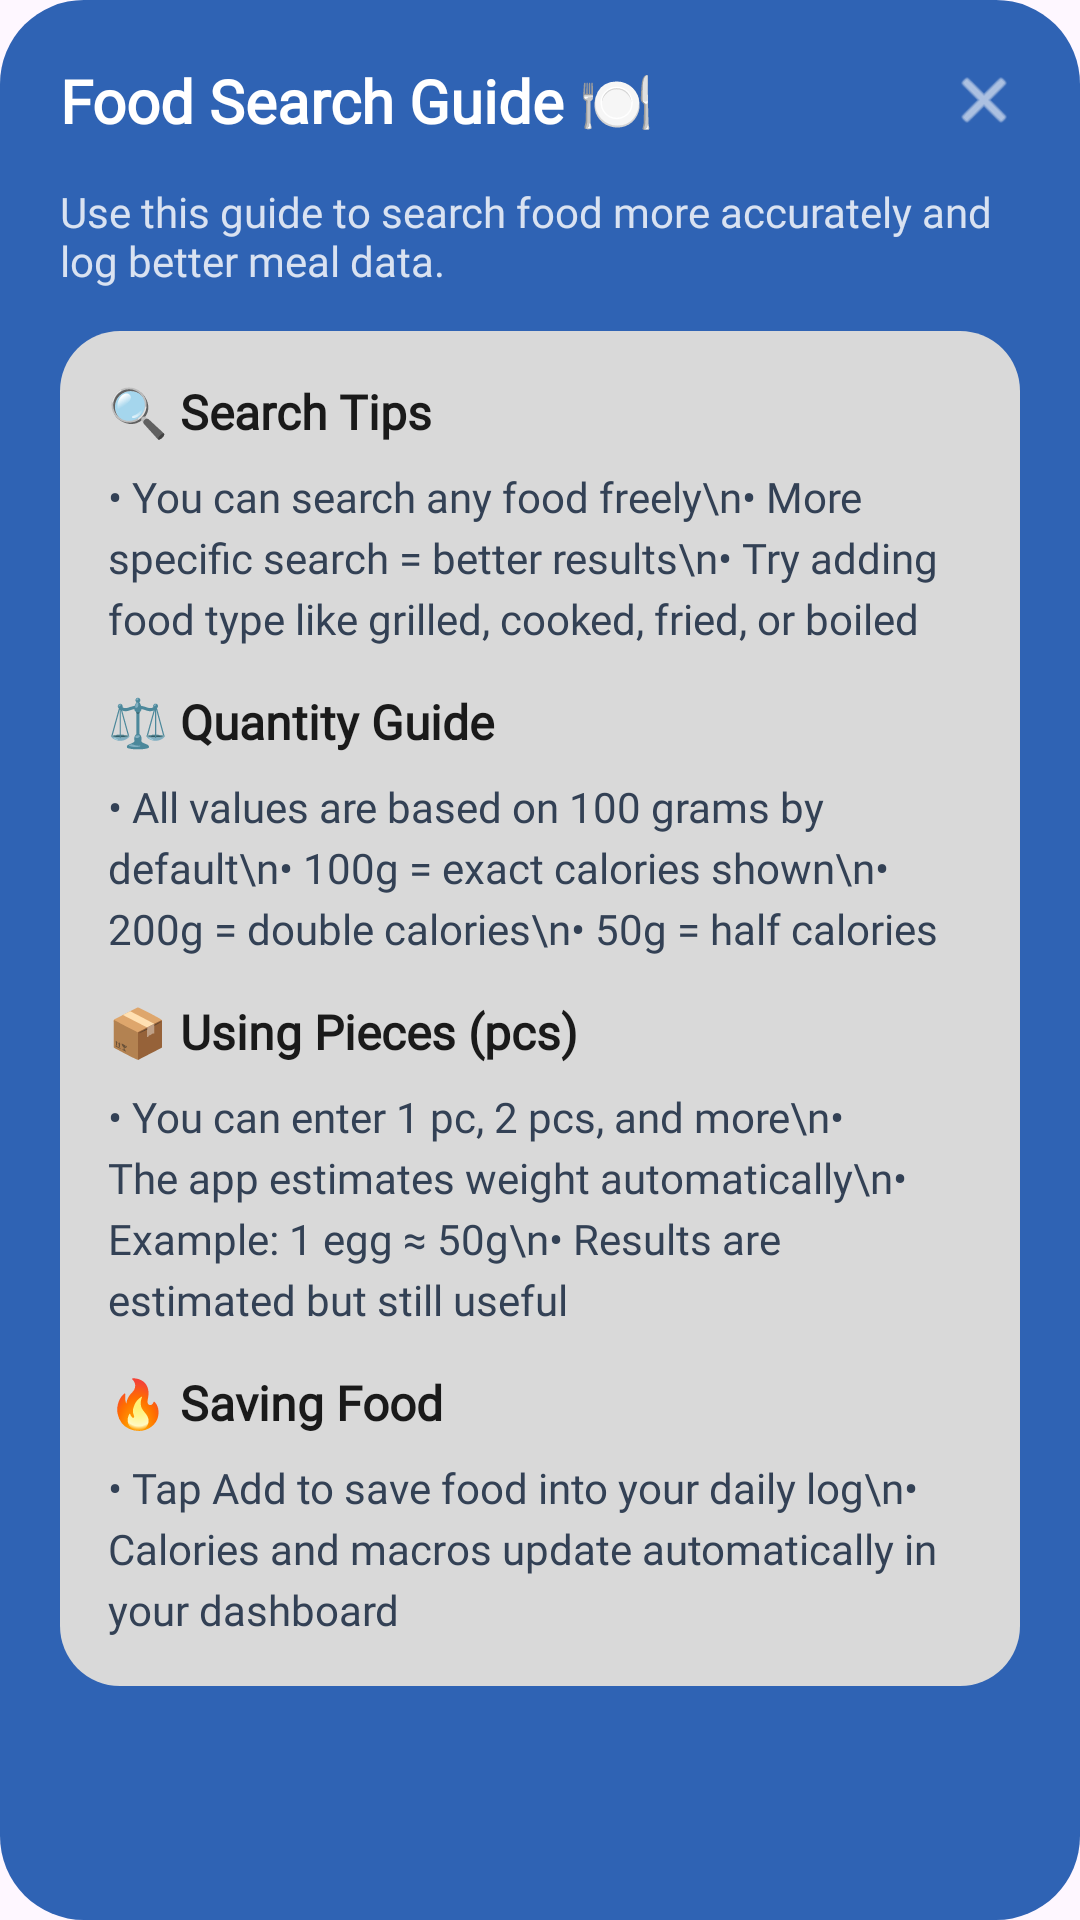

Point at icon controls on the screen. Image size 1080×1920, points as point (x, y).
Close: point (984, 100)
